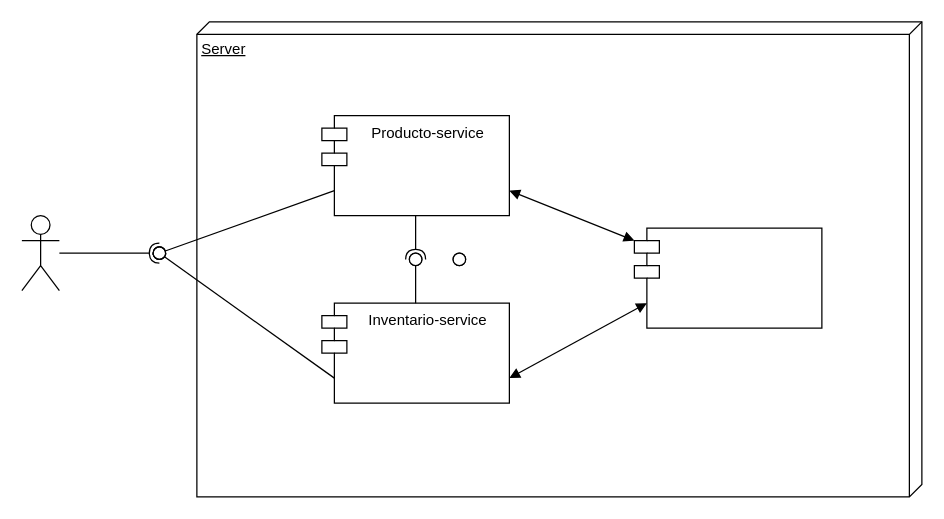
This 944x519 diagram has some shape labels left out. Here are the shapes that lost their labels. From the top down, the centre of each, then its label:
At point 40,252: "Client".
At point 727,277: "mysql".
